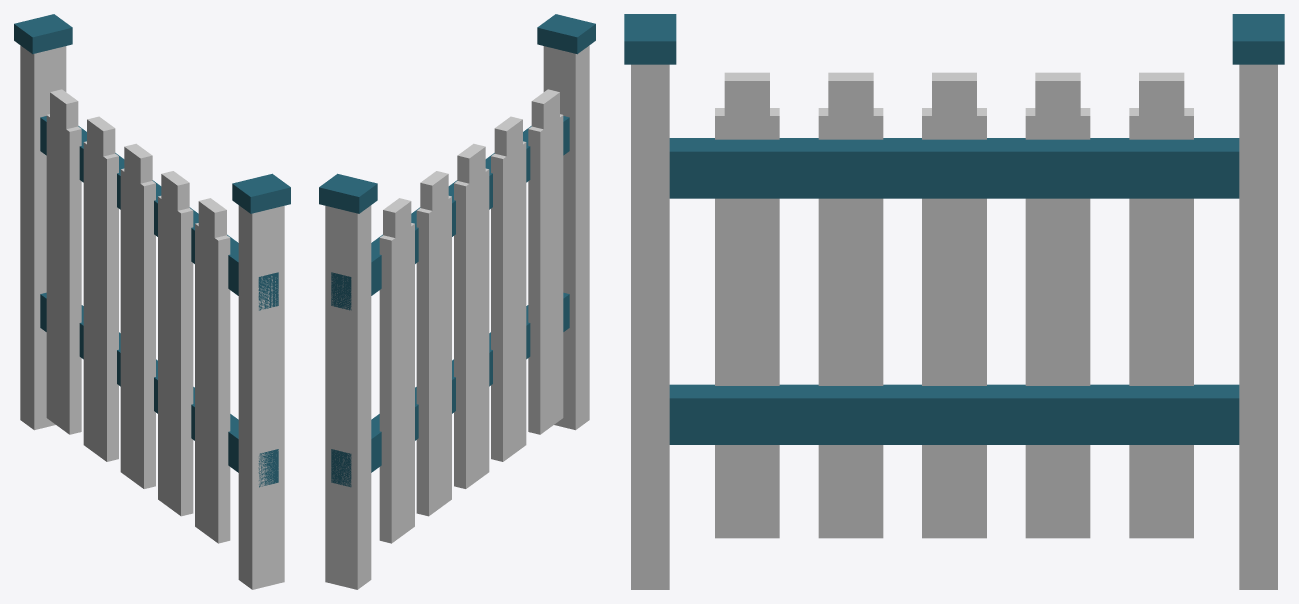
Rendered from decor_fence.obj.
3 views of the same model, side by side, from view 1: azimuth 30°, elevation 25°; view 2: azimuth 150°, elevation 25°; view 3: azimuth 270°, elevation 25° (orthographic). The views are drawn at different scales.
Parts seen in each view (by area): view 1: Body; view 2: Body; view 3: Body.
Boxes of the visible parts, bbox=[...] form: Body: bbox=[14, 14, 290, 589]; Body: bbox=[319, 14, 595, 589]; Body: bbox=[624, 14, 1284, 589].
Bounding box in the file's own units: 0.1 × 0.94 × 1.02.
